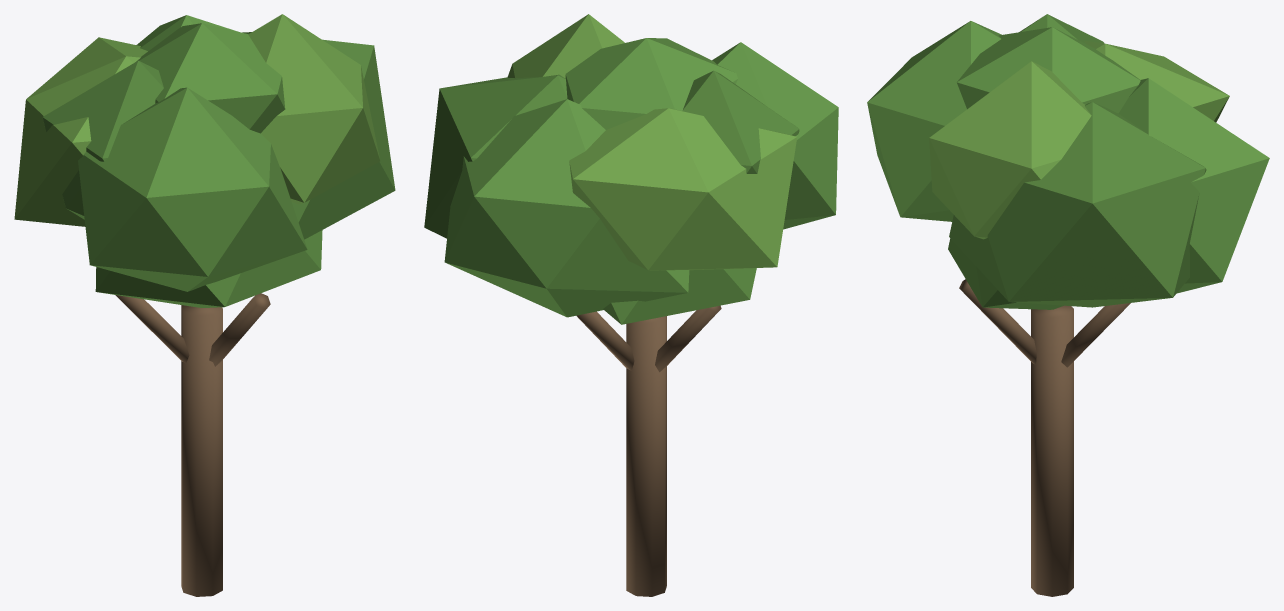
Rendered from leaf_a.glb.
The picture shows the model from 3 angles, left to right: view 1: azimuth 30°, elevation 25°; view 2: azimuth 150°, elevation 25°; view 3: azimuth 270°, elevation 25°; orthographic projection. The views are drawn at different scales.
Parts seen in each view (by area): view 1: leaf_a; view 2: leaf_a; view 3: leaf_a.
Boxes of the visible parts, left/top/right/bottom form: leaf_a: left=14, top=14, right=395, bottom=596; leaf_a: left=424, top=14, right=838, bottom=596; leaf_a: left=867, top=14, right=1269, bottom=596.
Bounding box in the file's own units: 5.42 × 8.29 × 5.39.
